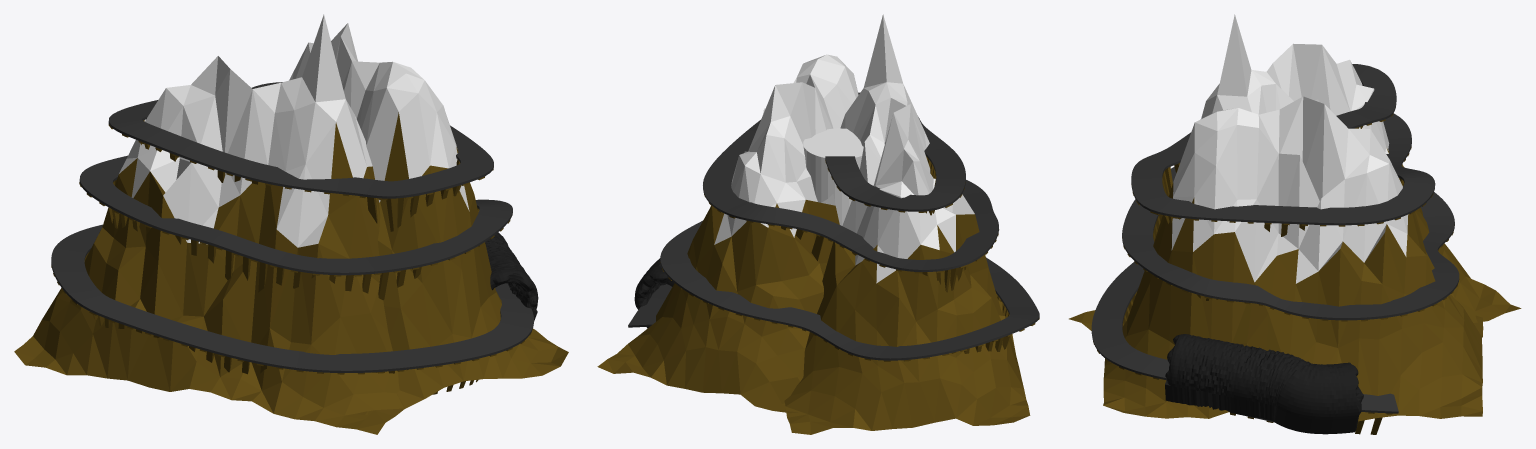
The model's file is Moutain.glb.
3 views of the same model, side by side, from view 1: azimuth 30°, elevation 25°; view 2: azimuth 150°, elevation 25°; view 3: azimuth 270°, elevation 25° (orthographic). The views are drawn at different scales.
Parts seen in each view (by area): view 1: Plane.003, Plane, Plane.001, Torus; view 2: Plane.003, Plane.001, Plane, Cylinder, Torus; view 3: Plane.001, Plane, Torus, Plane.003.
Part boxes in pixels (x1=…): Plane.003: x1=14, y1=14, x2=404, y2=434; Plane: x1=51, y1=82, x2=533, y2=394; Plane.001: x1=289, y1=23, x2=568, y2=416; Torus: x1=485, y1=232, x2=538, y2=321; Plane.003: x1=784, y1=14, x2=1030, y2=434; Plane.001: x1=597, y1=54, x2=858, y2=413; Plane: x1=628, y1=92, x2=1039, y2=361; Cylinder: x1=803, y1=128, x2=863, y2=225; Torus: x1=634, y1=258, x2=674, y2=328; Plane.001: x1=1103, y1=96, x2=1483, y2=421; Plane: x1=1091, y1=64, x2=1459, y2=434; Torus: x1=1165, y1=334, x2=1363, y2=434; Plane.003: x1=1069, y1=14, x2=1521, y2=330.
Size of what is drawn, in the model's own units: 181 by 145 by 170.
